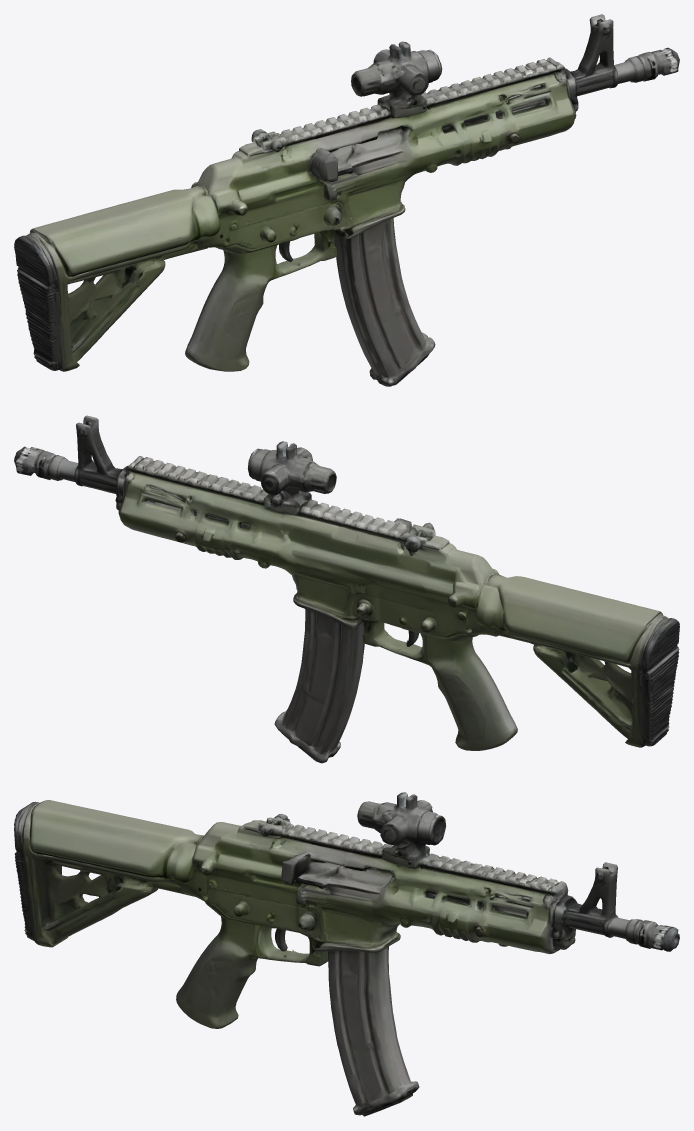
Rendered from rn_bullpupA3.glb.
The picture shows the model from 3 angles, top to bottom: view 1: azimuth 30°, elevation 25°; view 2: azimuth 150°, elevation 25°; view 3: azimuth 330°, elevation 25°; orthographic projection. The views are drawn at different scales.
Visible parts, largest first — view 1: tripo_node_7fe50fb8-471e-4a95-ac2c-1cc50f0cc320; view 2: tripo_node_7fe50fb8-471e-4a95-ac2c-1cc50f0cc320; view 3: tripo_node_7fe50fb8-471e-4a95-ac2c-1cc50f0cc320.
Boxes of the visible parts, left/top/right/bottom form: tripo_node_7fe50fb8-471e-4a95-ac2c-1cc50f0cc320: left=14, top=14, right=679, bottom=386; tripo_node_7fe50fb8-471e-4a95-ac2c-1cc50f0cc320: left=14, top=415, right=679, bottom=763; tripo_node_7fe50fb8-471e-4a95-ac2c-1cc50f0cc320: left=14, top=792, right=679, bottom=1116.
Bounding box in the file's own units: 0.9793 × 0.4592 × 0.1199.
Materials: 1 (1 with a texture image).
